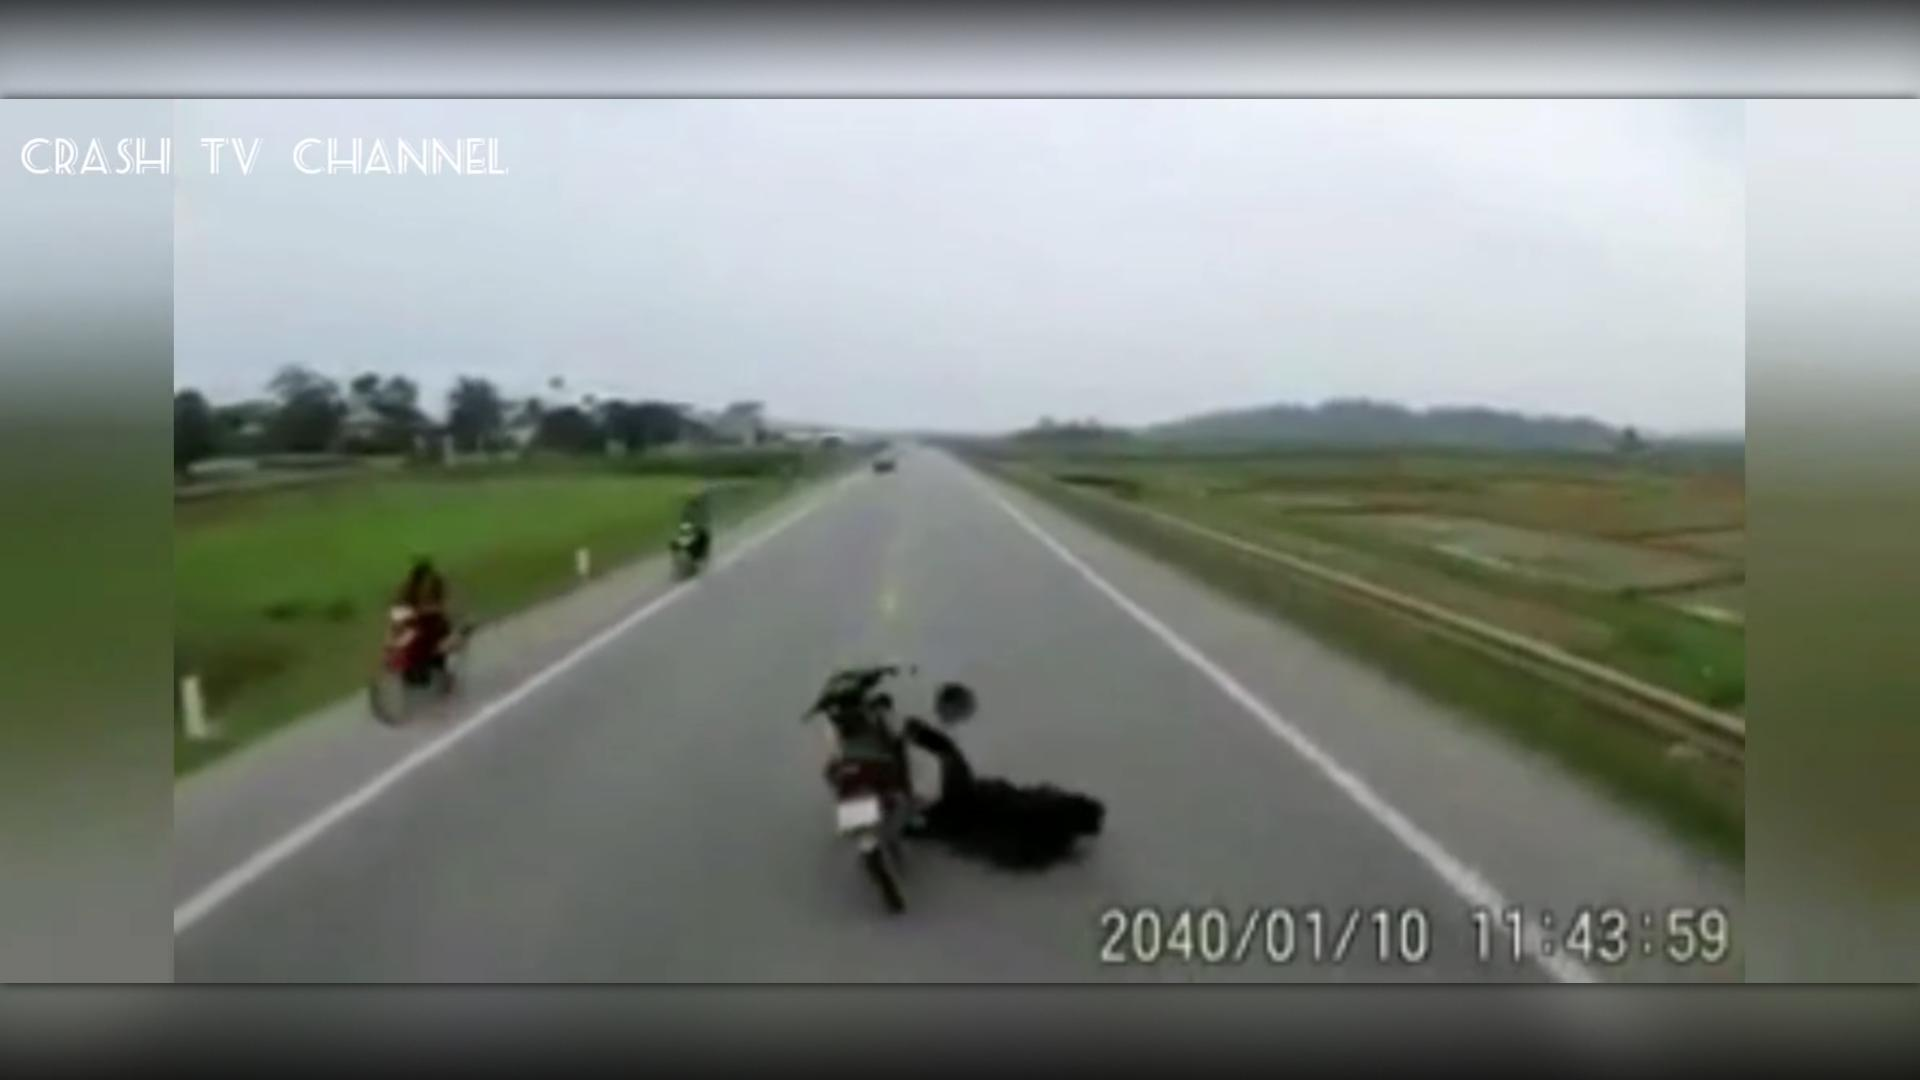accident: (787, 649, 1135, 922)
